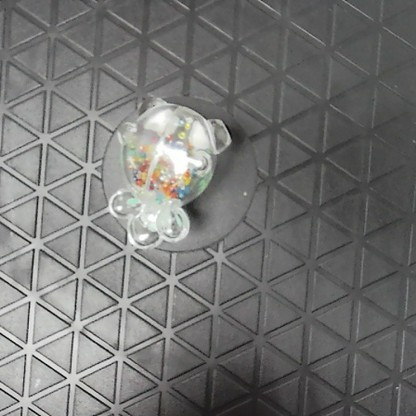whitefish: (107, 94, 230, 252)
